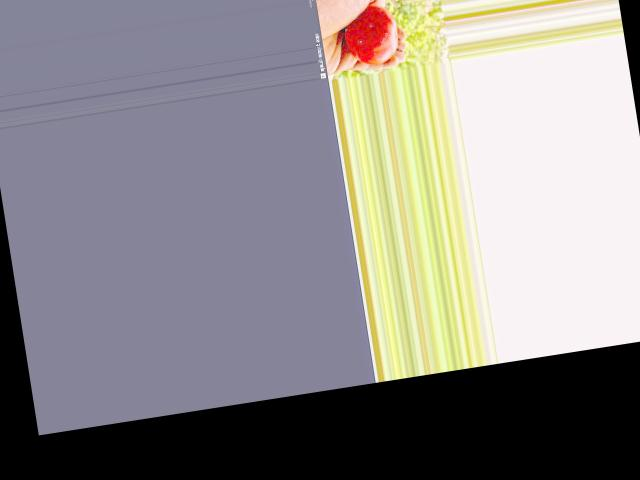tomato: (340, 2, 401, 67)
